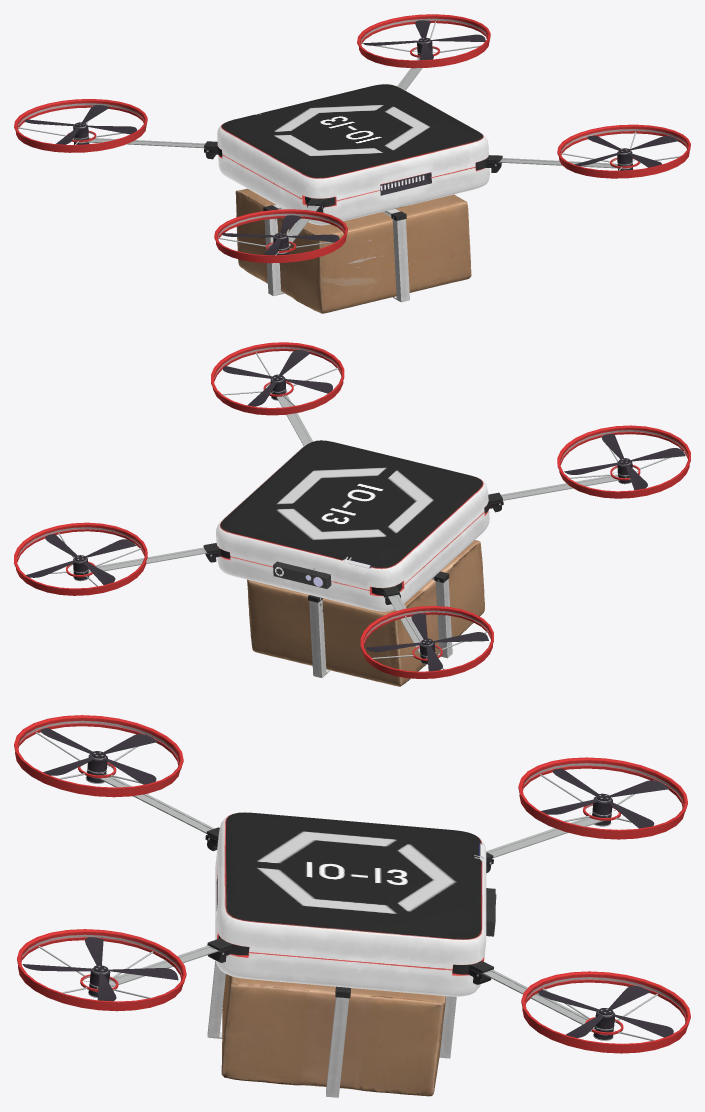
File: delivery-drone.glb
The picture shows the model from 3 angles, top to bottom: view 1: azimuth 30°, elevation 25°; view 2: azimuth 150°, elevation 25°; view 3: azimuth 270°, elevation 25°; orthographic projection. The views are drawn at different scales.
Visible parts, largest first — view 1: Box001_Material #25_0, Cylinder047_Material #29_0, Aset_container_box_S_uewlfg2va_00_LOD001_uewlfg2va_Cardboard, Box074_Material #26_0; view 2: Box001_Material #25_0, Cylinder047_Material #29_0, Aset_container_box_S_uewlfg2va_00_LOD001_uewlfg2va_Cardboard, Box074_Material #26_0; view 3: Box001_Material #25_0, Cylinder047_Material #29_0, Aset_container_box_S_uewlfg2va_00_LOD001_uewlfg2va_Cardboard, Box074_Material #26_0.
Part boxes in pixels (x1,y1,x2,y2): Box001_Material #25_0: [217, 84, 489, 225]; Cylinder047_Material #29_0: [14, 14, 690, 263]; Aset_container_box_S_uewlfg2va_00_LOD001_uewlfg2va_Cardboard: [235, 188, 471, 313]; Box074_Material #26_0: [263, 204, 409, 302]; Box001_Material #25_0: [216, 440, 489, 611]; Cylinder047_Material #29_0: [14, 342, 690, 678]; Aset_container_box_S_uewlfg2va_00_LOD001_uewlfg2va_Cardboard: [247, 540, 484, 686]; Box074_Material #26_0: [308, 571, 452, 677]; Box001_Material #25_0: [215, 812, 496, 996]; Cylinder047_Material #29_0: [14, 715, 690, 1053]; Aset_container_box_S_uewlfg2va_00_LOD001_uewlfg2va_Cardboard: [221, 974, 445, 1096]; Box074_Material #26_0: [207, 960, 456, 1097].
Size of the model in its own units: 147 by 49.7 by 147.
5 materials, 4 textured.
